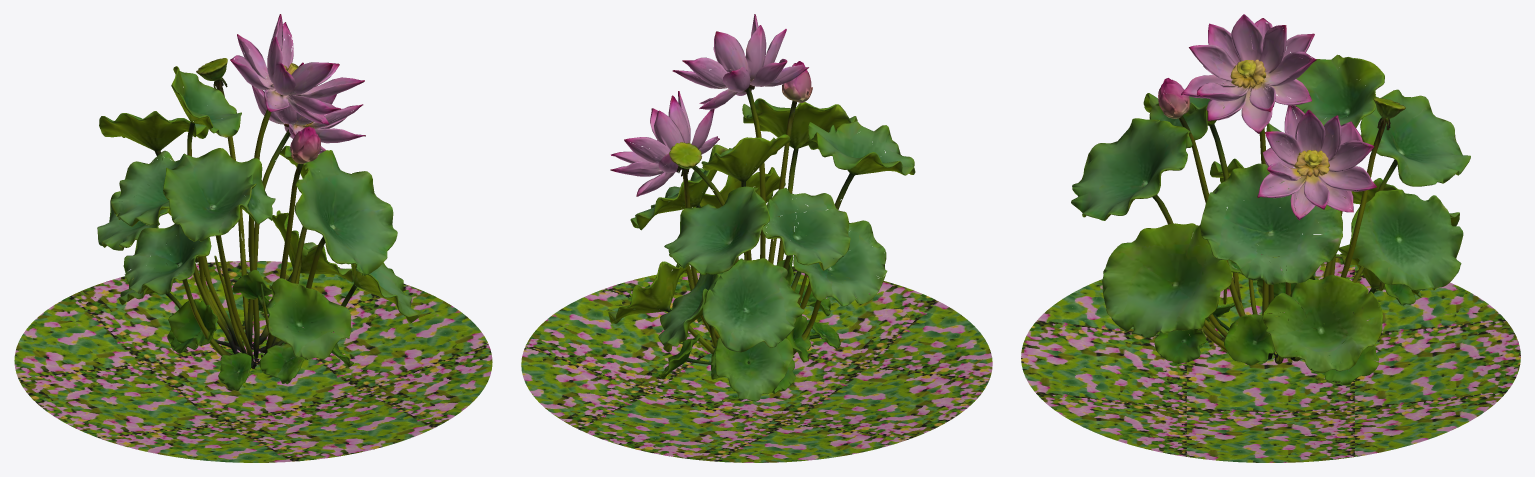
The model's file is pink_lotus_flower_cluster.glb.
3 views of the same model, side by side, from view 1: azimuth 30°, elevation 25°; view 2: azimuth 150°, elevation 25°; view 3: azimuth 270°, elevation 25° (orthographic). The views are drawn at different scales.
Parts seen in each view (by area): view 1: EcoSuelo, EcoPlanta; view 2: EcoPlanta, EcoSuelo; view 3: EcoPlanta, EcoSuelo.
Part boxes in pixels (x1,y1,x2,y2): EcoSuelo: [14, 261, 492, 462]; EcoPlanta: [97, 14, 419, 390]; EcoPlanta: [608, 14, 915, 401]; EcoSuelo: [521, 266, 992, 462]; EcoPlanta: [1071, 14, 1470, 385]; EcoSuelo: [1021, 254, 1520, 462].
Bounding box in the file's own units: 1.23 × 1.01 × 1.23.
Materials: 2 (2 with a texture image).
